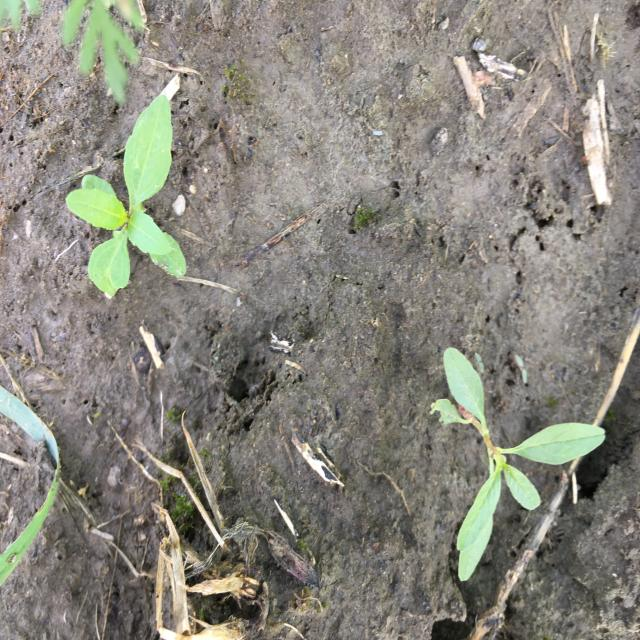Eclipta: (64, 91, 188, 298)
Waterhemp: (429, 345, 607, 584)
